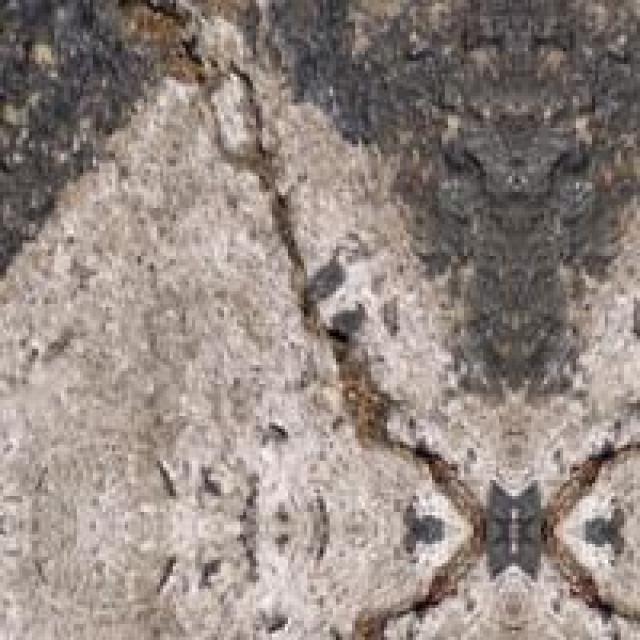Crack: (151, 10, 455, 567)
